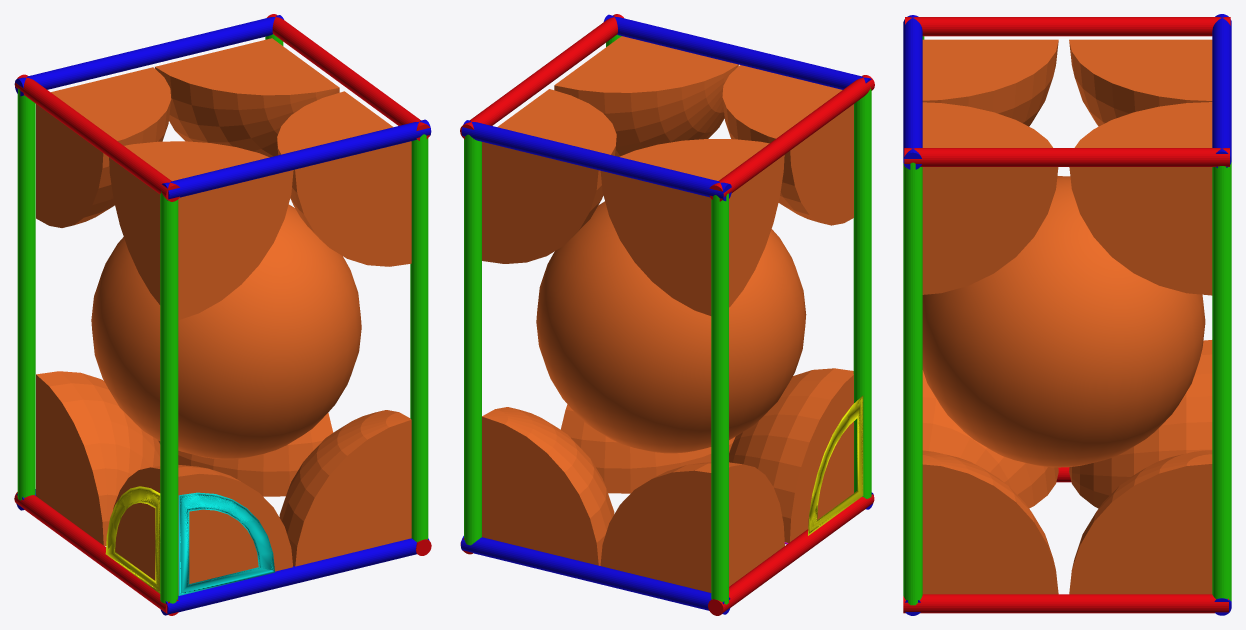
File: tetragonal centrada en el cuerpo.glb
The picture shows the model from 3 angles, left to right: view 1: azimuth 30°, elevation 25°; view 2: azimuth 150°, elevation 25°; view 3: azimuth 270°, elevation 25°; orthographic projection. The views are drawn at different scales.
Parts seen in each view (by area): view 1: Sphere.096, Sphere.074, Sphere.076, Sphere.075, Sphere.077, Sphere.080, Sphere.078, Sphere.073, Cylinder.137, Cylinder.135, Cylinder.129, Cylinder.128 (+8 smaller); view 2: Sphere.096, Sphere.078, Sphere.077, Sphere.080, Sphere.079, Sphere.076, Sphere.073, Sphere.074, Cylinder.132, Cylinder.135, Cylinder.137, Cylinder.134 (+7 smaller); view 3: Sphere.096, Sphere.080, Sphere.076, Sphere.079, Sphere.075, Sphere.078, Sphere.074, Cylinder.129, Cylinder.132, Sphere.077, Cylinder.130, Cylinder.131 (+4 smaller).
Part boxes in pixels (x1,y1,x2,y2): Sphere.096: (91,204,361,459); Sphere.074: (109,141,293,320); Sphere.076: (277,91,411,266); Sphere.075: (279,410,411,566); Sphere.077: (36,371,160,546); Sphere.080: (155,38,339,157); Sphere.078: (36,67,171,227); Sphere.073: (113,465,292,594); Cylinder.137: (160,191,178,603); Cylinder.135: (17,88,35,500); Cylinder.129: (410,134,428,542); Cylinder.128: (162,119,431,200); Sphere.096: (536,201,806,453); Sphere.078: (600,139,784,315); Sphere.077: (600,462,784,592); Sphere.080: (482,89,616,263); Sphere.079: (482,407,614,565); Sphere.076: (554,36,738,156); Sphere.073: (729,368,853,543); Sphere.074: (722,65,853,225); Cylinder.132: (464,134,481,545); Cylinder.135: (711,193,728,604); Cylinder.137: (853,87,871,498); Cylinder.134: (461,120,731,201); Sphere.096: (922,176,1205,467); Sphere.080: (1069,102,1212,295); Sphere.076: (922,102,1058,294); Sphere.079: (1069,450,1212,594); Sphere.075: (922,450,1058,594); Sphere.078: (1069,39,1212,126); Sphere.074: (922,39,1058,126); Cylinder.129: (903,162,922,605); Cylinder.132: (1212,162,1231,601); Sphere.077: (1069,340,1212,508); Cylinder.130: (903,594,1228,613); Cylinder.131: (904,148,1229,166).
Bounding box in the file's own units: 0.000271 × 0.000421 × 0.00027.
